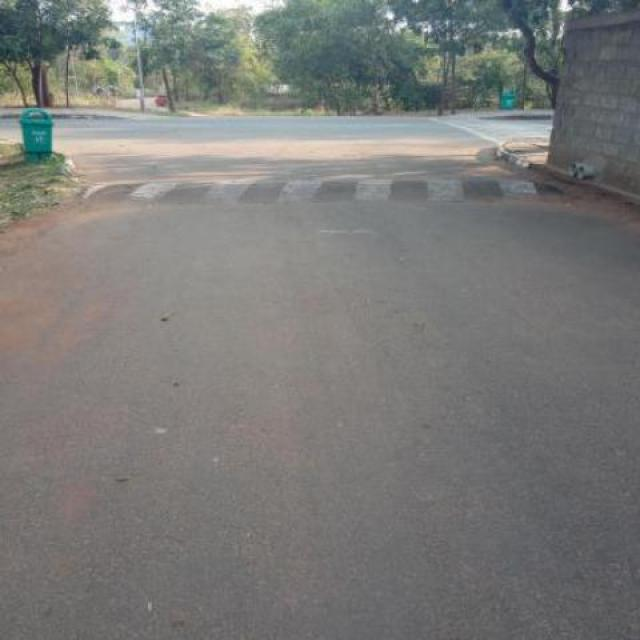Speed Bump: (82, 178, 561, 202)
